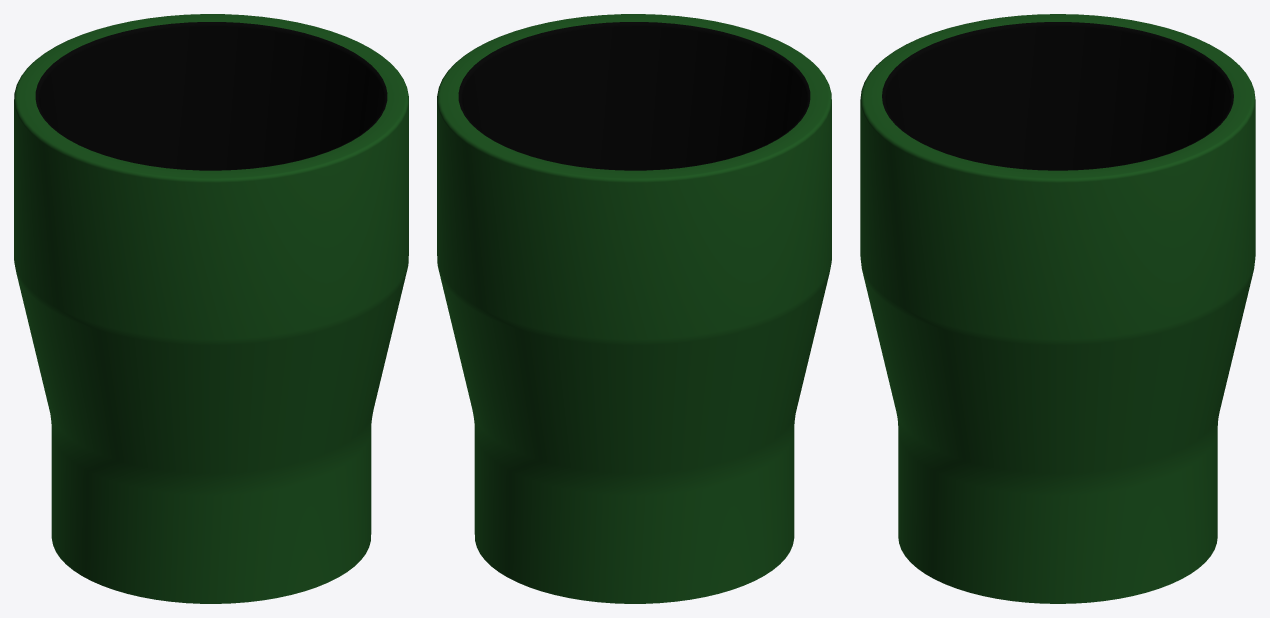
Rendered from TrashCan.fbx.
3 renders of one model, left to right at view 1: azimuth 30°, elevation 25°; view 2: azimuth 150°, elevation 25°; view 3: azimuth 270°, elevation 25°, orthographic.
Visible parts, largest first — view 1: Trash Can; view 2: Trash Can; view 3: Trash Can.
Boxes of the visible parts, x1,y1,x2,y2 form: Trash Can: (14, 14, 408, 603); Trash Can: (437, 14, 831, 603); Trash Can: (860, 14, 1255, 603).
Bounding box in the file's own units: 2.47 × 3.04 × 2.47.
